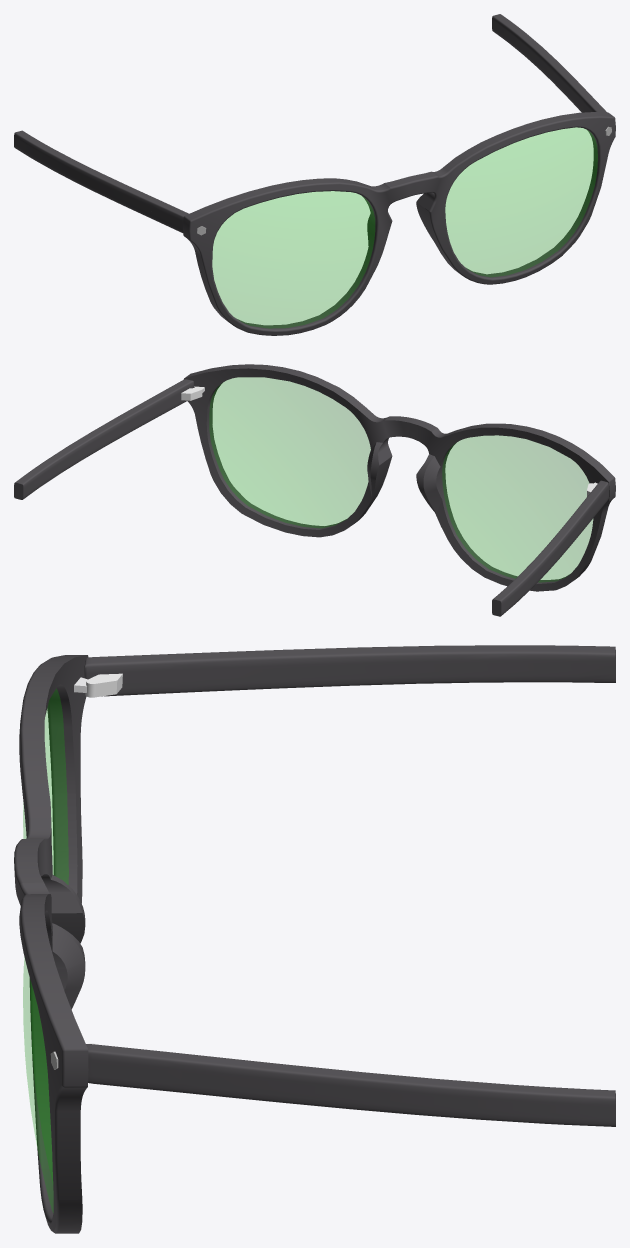
File: eyeglasses-transparent-green.glb
3 views of the same model, one above another, from view 1: azimuth 30°, elevation 25°; view 2: azimuth 150°, elevation 25°; view 3: azimuth 270°, elevation 25° (orthographic). The views are drawn at different scales.
Parts seen in each view (by area): view 1: main, rightEar, leftEar; view 2: main, leftEar, rightEar; view 3: main, leftEar, rightEar.
Boxes of the visible parts, bbox=[...] form: main: bbox=[151, 95, 615, 335]; rightEar: bbox=[14, 130, 159, 218]; leftEar: bbox=[492, 14, 590, 112]; main: bbox=[153, 364, 615, 591]; leftEar: bbox=[14, 397, 161, 499]; rightEar: bbox=[492, 502, 591, 616]; main: bbox=[14, 653, 181, 1233]; leftEar: bbox=[181, 1053, 615, 1126]; rightEar: bbox=[181, 645, 615, 692].
Bounding box in the file's own units: 2.16 × 0.6519 × 1.21.
4 materials, 1 textured.
